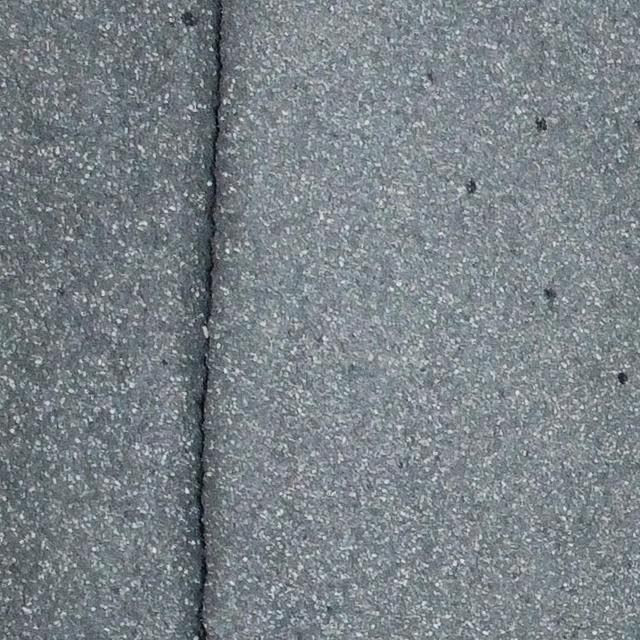LongitudinalCrack: (196, 1, 226, 639)
